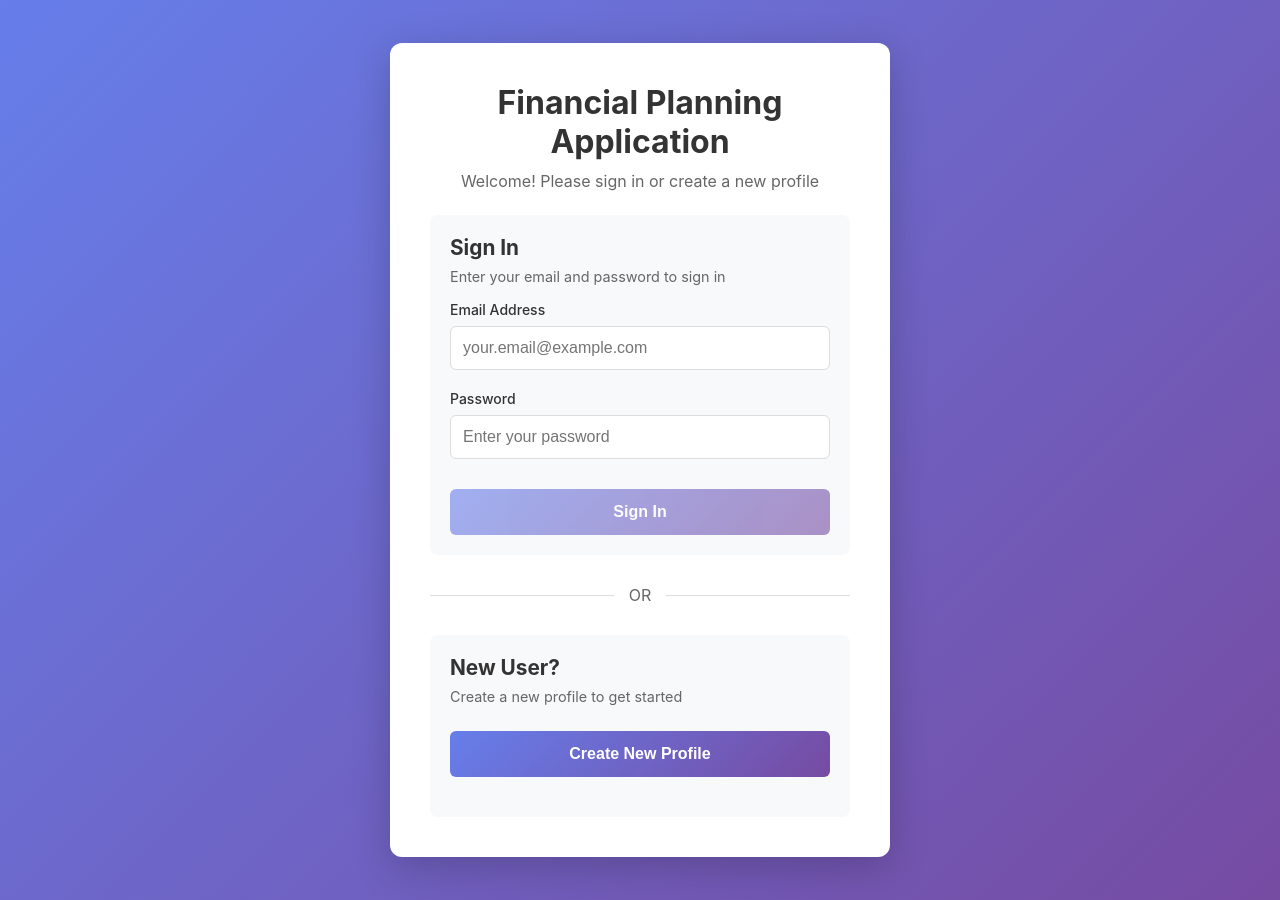
Scenario: LoginScreen › enables submit button when both email and password are filled
This screenshot has width=1280, height=900.
Type "test@example.com" into the field labelled "Email Address". click: (640, 348)
box: [450,326,830,370]
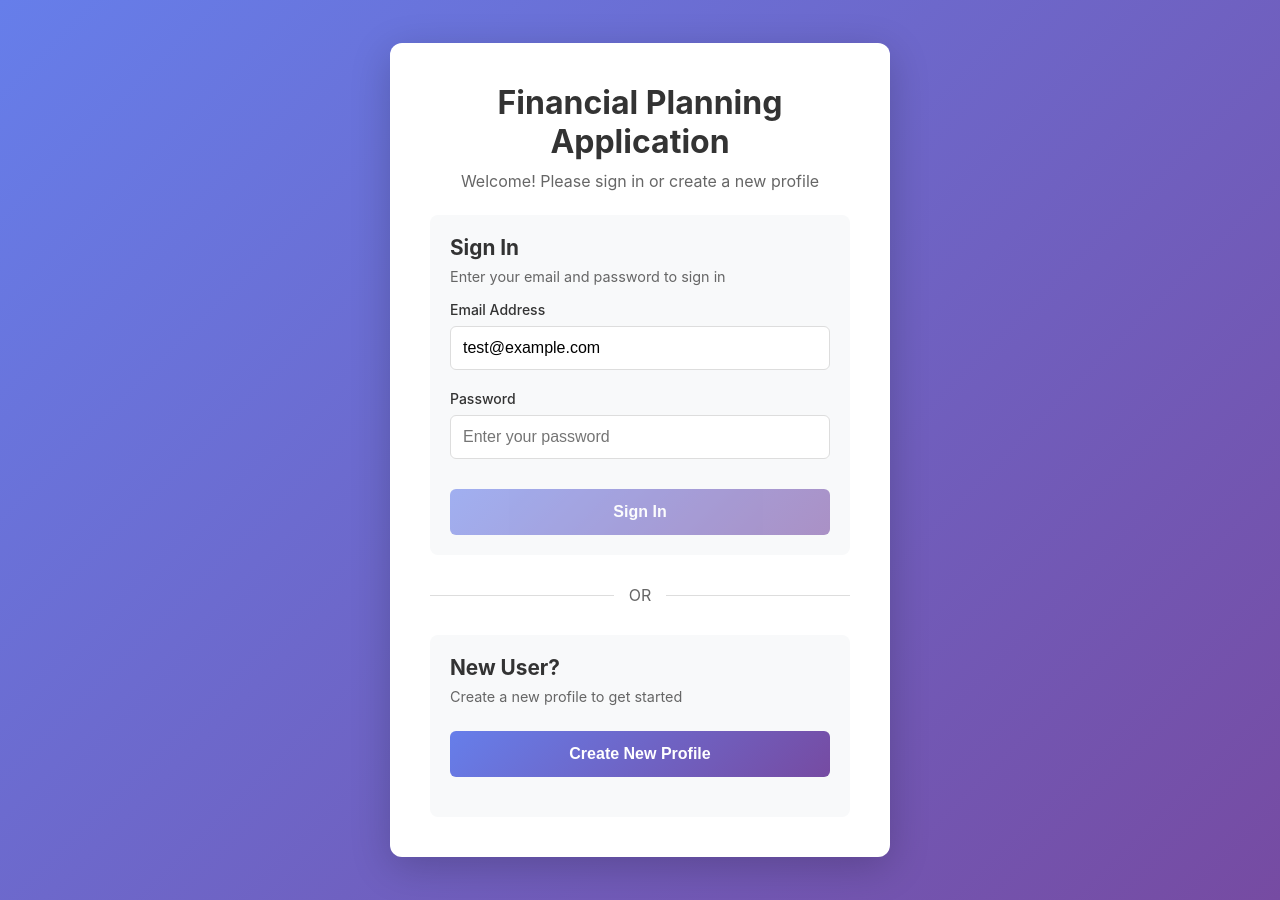
Type "password123" into the password field labelled "Password". click: (640, 437)
box: [450,415,830,459]
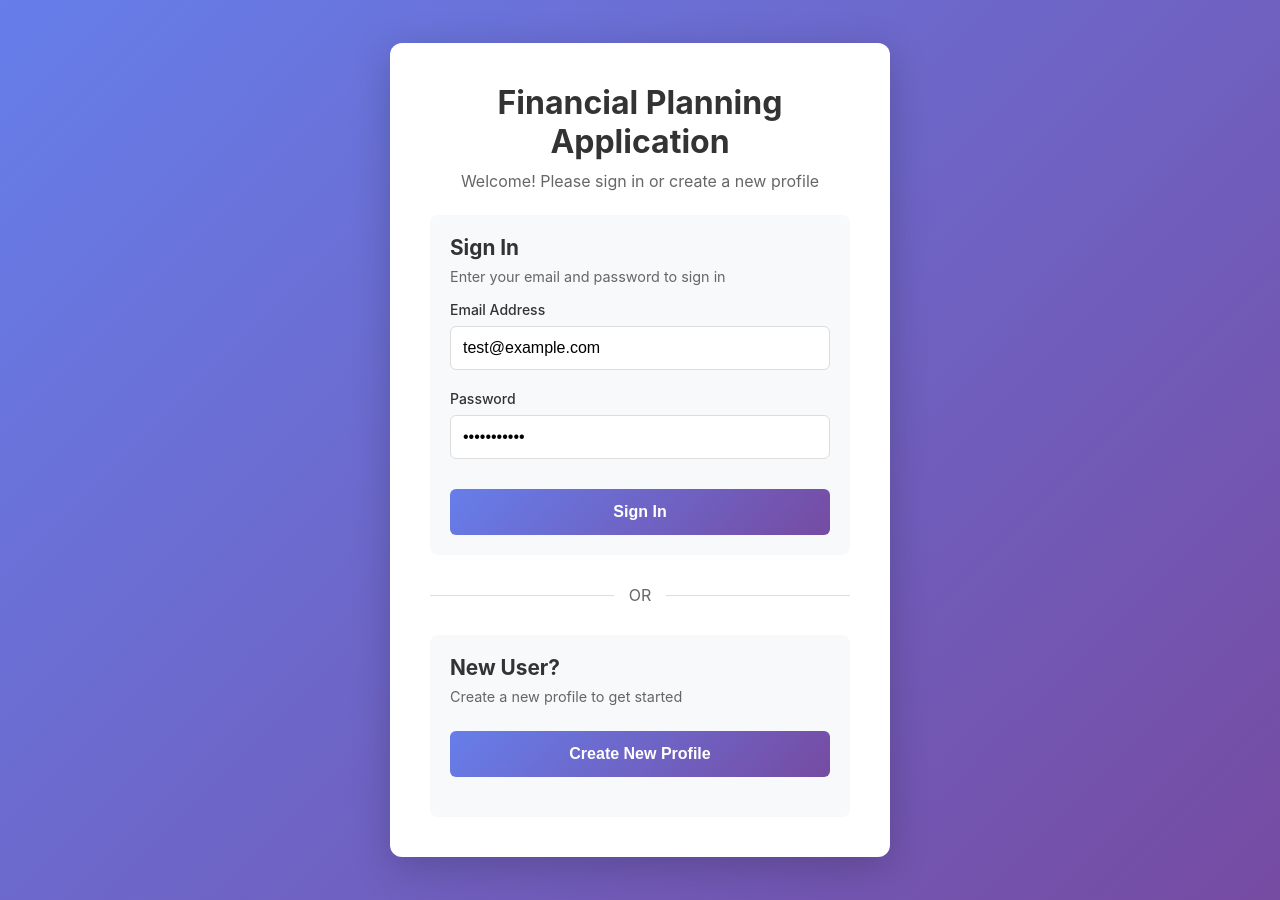
expect the button "Sign In" is enabled: met, box [450,489,830,535]
